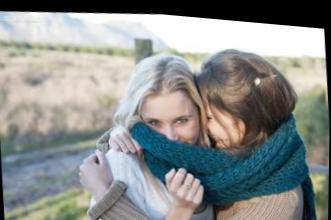NONE: (199, 99, 244, 162)
WRONG: (144, 101, 199, 163)
